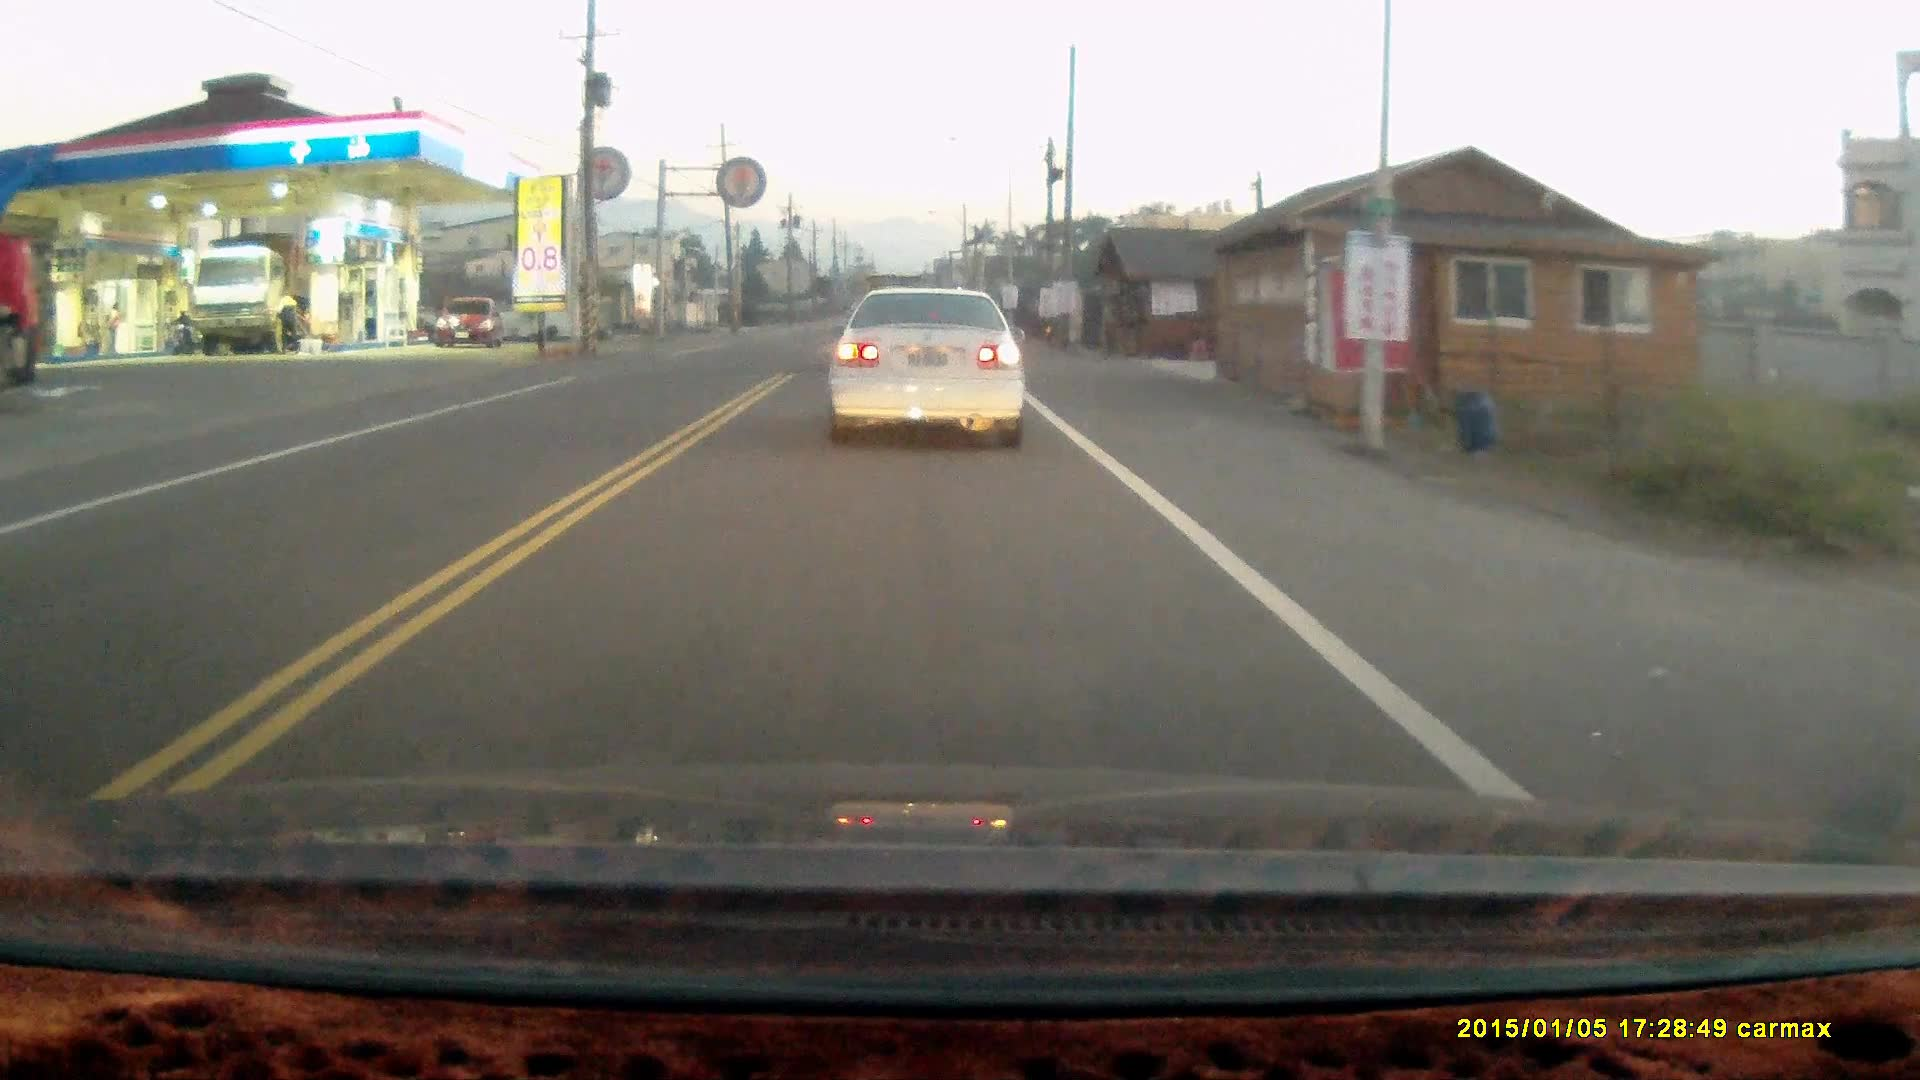pedestrian: (269, 287, 298, 352)
vehicle: (823, 282, 1031, 450), (189, 239, 309, 355), (436, 297, 511, 352)
